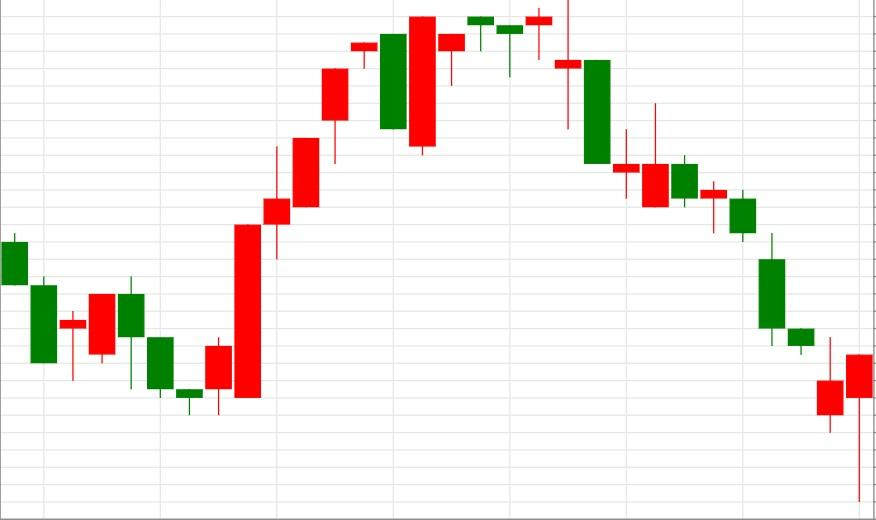bearish_engulfing_fall: (175, 33, 408, 416)
hammer_rise: (642, 102, 874, 502)
